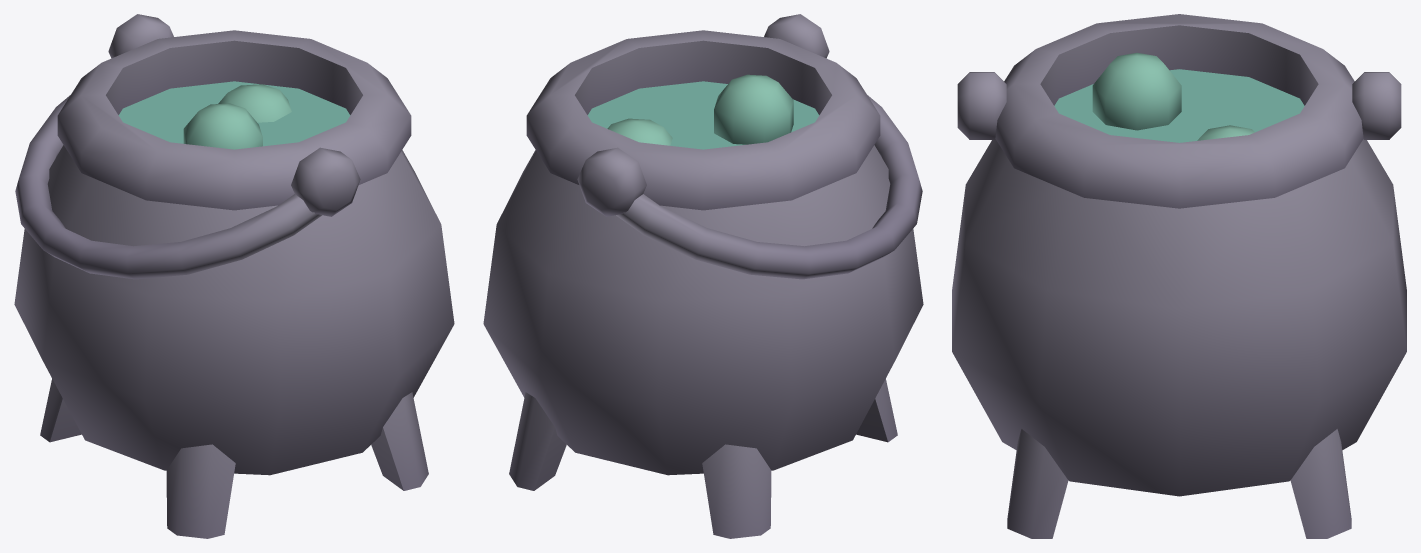
File: kettle-goop.glb
The picture shows the model from 3 angles, left to right: view 1: azimuth 30°, elevation 25°; view 2: azimuth 150°, elevation 25°; view 3: azimuth 270°, elevation 25°; orthographic projection. The views are drawn at different scales.
Visible parts, largest first — view 1: kettle-goop; view 2: kettle-goop; view 3: kettle-goop.
Boxes of the visible parts, bbox=[...] form: kettle-goop: bbox=[14, 14, 454, 538]; kettle-goop: bbox=[483, 14, 923, 538]; kettle-goop: bbox=[952, 14, 1406, 538].
Size of the model in its own units: 0.5257 by 0.4853 by 0.5.
